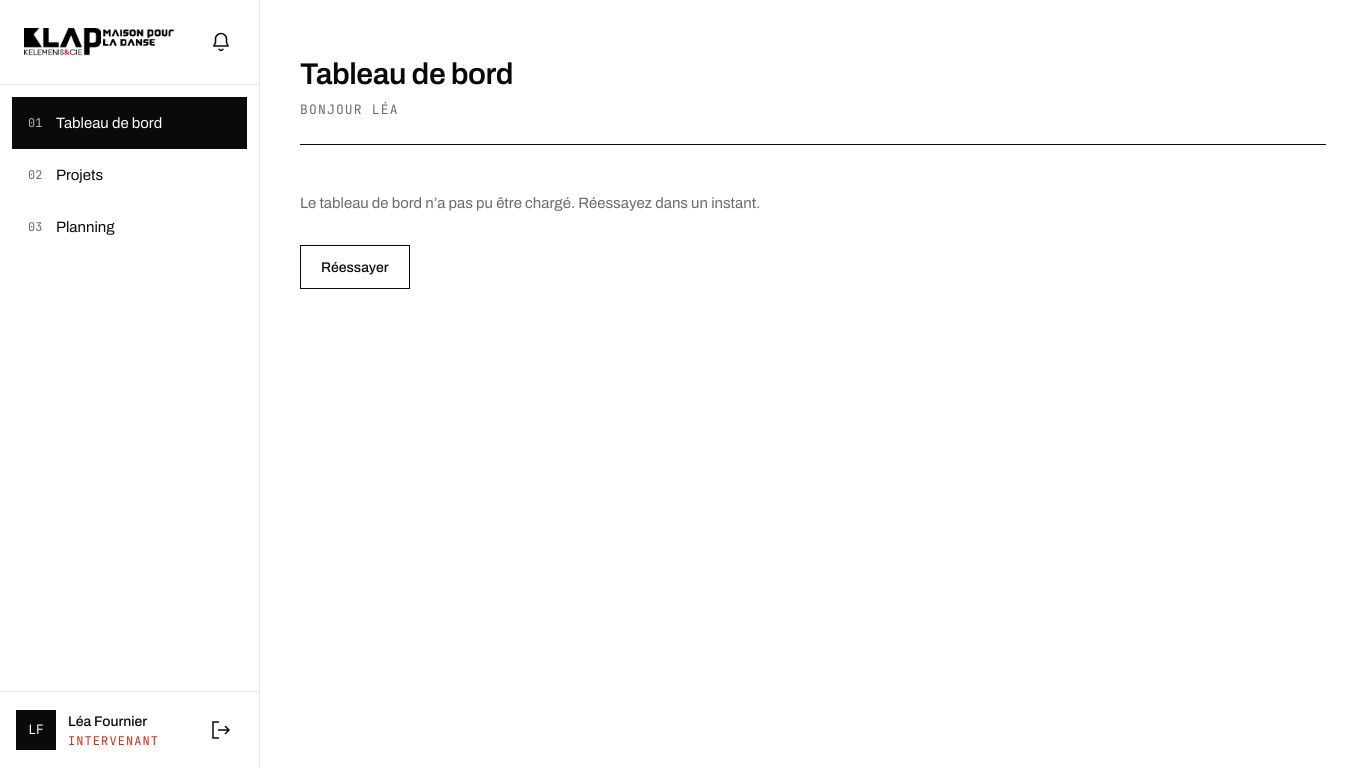
it: Tableau de bord › propose de réessayer après une erreur
The image size is (1366, 768).
Check: the text "Le tableau de bord n’a pas pu être chargé. Réessayez dans un instant." is shown, box [300,192,760,214]
Click the button "Réessayer".
click(355, 267)  # box [300,245,410,289]
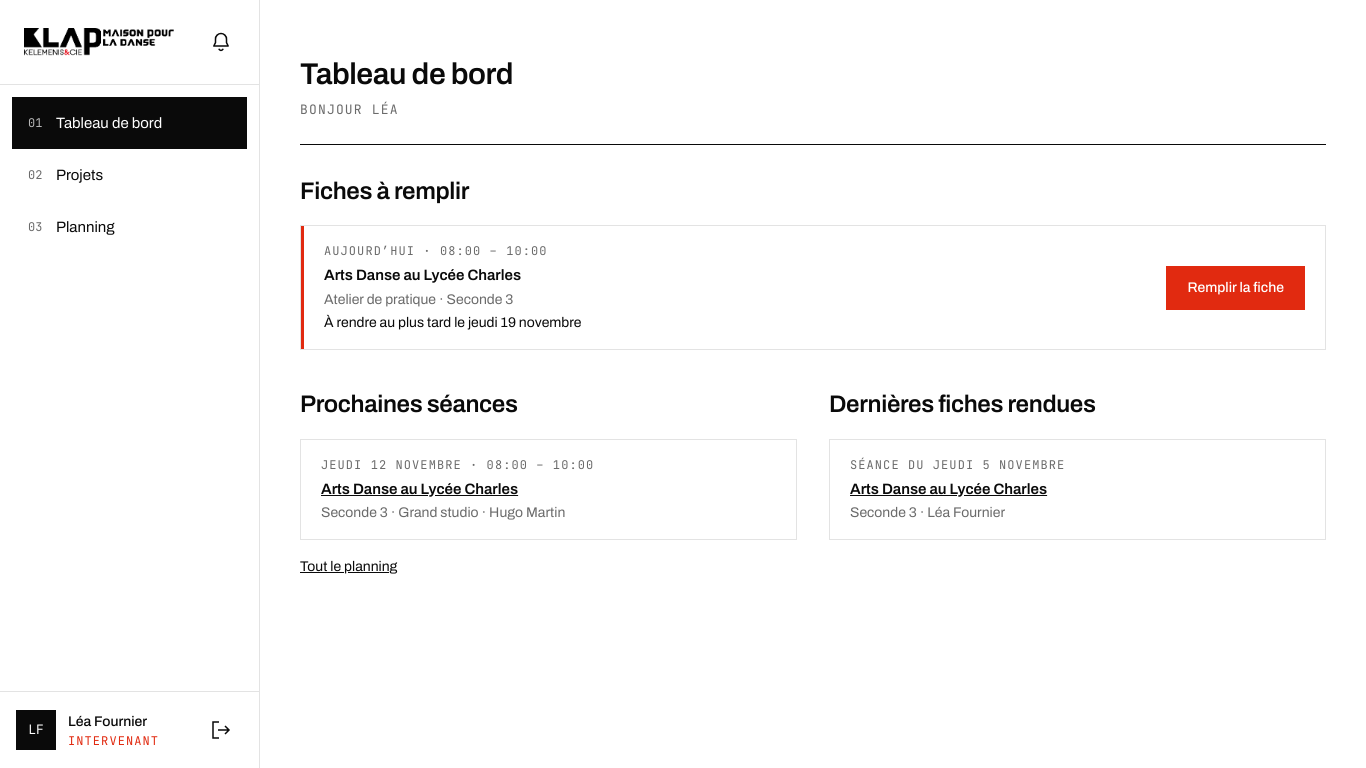
Check: the element "Fiches à remplir" is shown, box [300,176,1326,350]
